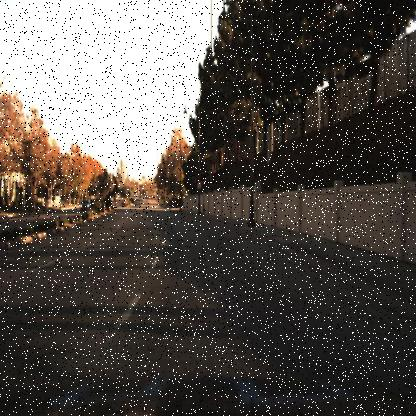car: (78, 198, 92, 215), (132, 192, 143, 211)
